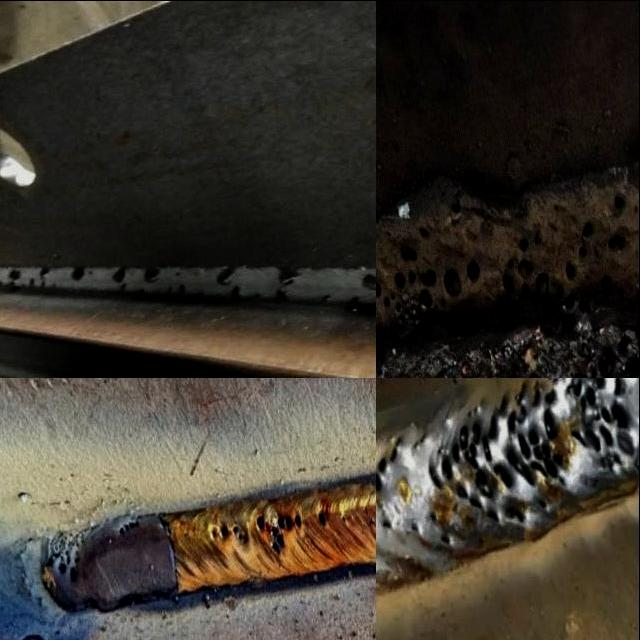defect: (424, 377, 640, 532), (492, 189, 631, 325), (377, 225, 486, 322), (559, 328, 640, 377), (254, 506, 307, 561), (50, 523, 96, 584), (377, 428, 412, 498), (448, 186, 471, 231), (209, 521, 249, 545), (275, 264, 309, 287), (28, 263, 57, 287), (69, 262, 97, 281), (213, 264, 237, 285), (111, 264, 129, 291), (356, 271, 377, 294), (117, 517, 142, 535), (380, 509, 395, 535), (344, 294, 364, 313), (141, 265, 164, 281), (6, 266, 25, 285), (229, 283, 246, 302), (363, 502, 376, 525), (318, 507, 330, 531), (164, 282, 187, 294), (274, 287, 291, 301), (439, 530, 452, 546), (319, 291, 333, 304), (410, 518, 420, 536), (430, 508, 439, 523), (339, 509, 348, 523), (252, 288, 261, 300), (174, 268, 185, 277)
